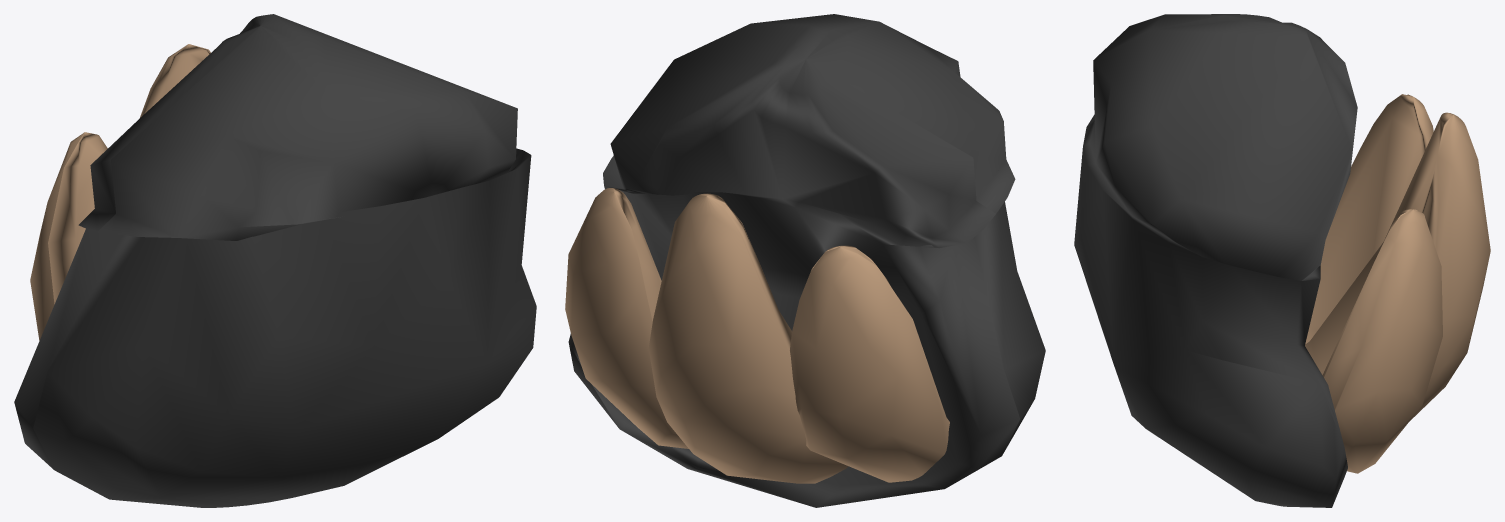
The model's file is hand_sloth_optimized60.glb.
3 views of the same model, side by side, from view 1: azimuth 30°, elevation 25°; view 2: azimuth 150°, elevation 25°; view 3: azimuth 270°, elevation 25° (orthographic). The views are drawn at different scales.
Visible parts, largest first — view 1: CombinedMesh_MaterialSlots; view 2: CombinedMesh_MaterialSlots; view 3: CombinedMesh_MaterialSlots.
Part boxes in pixels (x1,y1,x2,y2): CombinedMesh_MaterialSlots: (14,14,536,507); CombinedMesh_MaterialSlots: (565,14,1045,507); CombinedMesh_MaterialSlots: (1074,14,1490,507).
Bounding box in the file's own units: 1.48 × 1.43 × 1.2.
